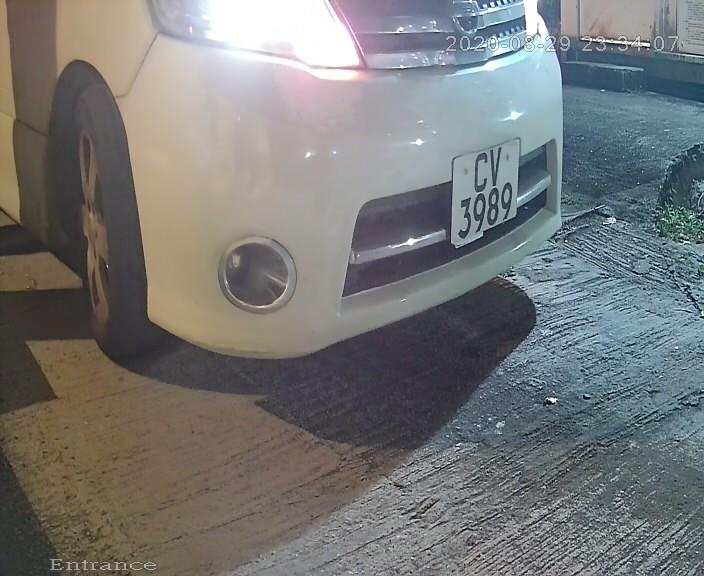License Plate: (441, 121, 525, 265)
